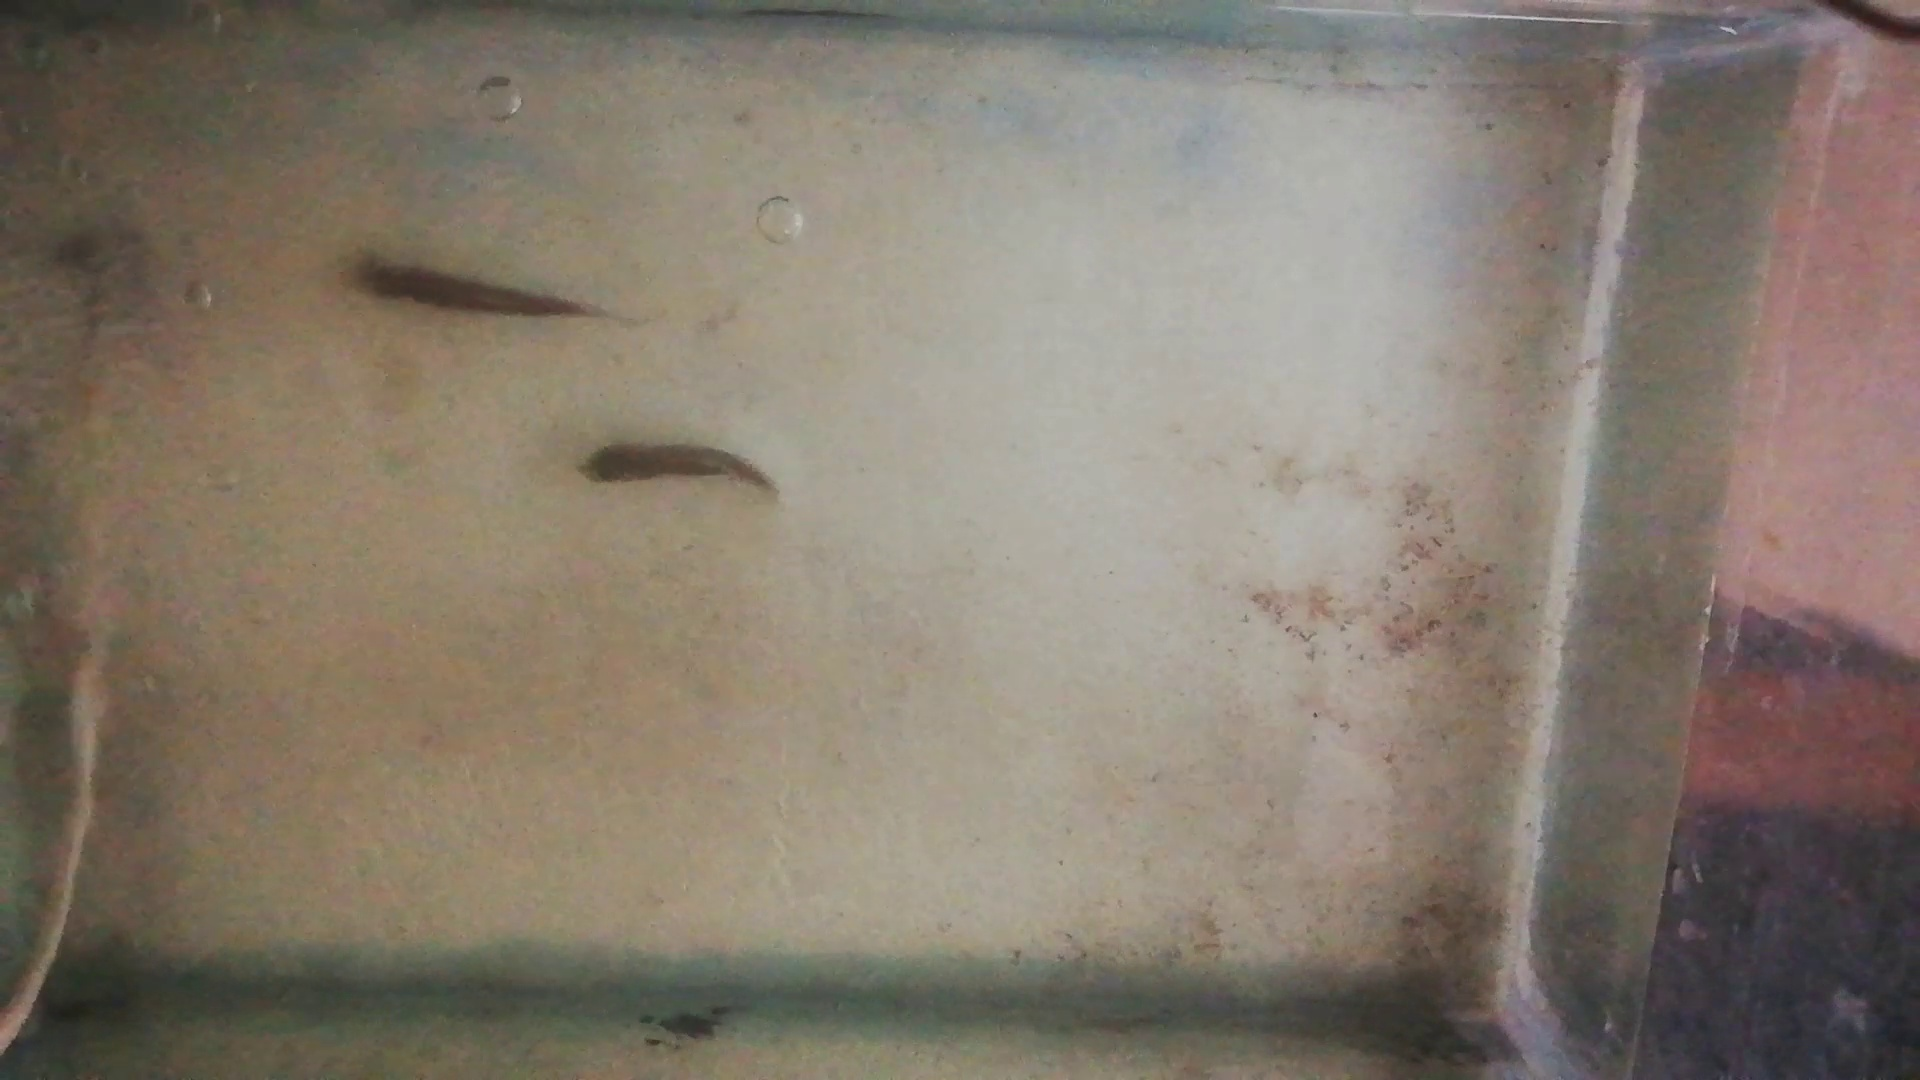fish: (345, 260, 591, 313), (574, 440, 770, 489)
